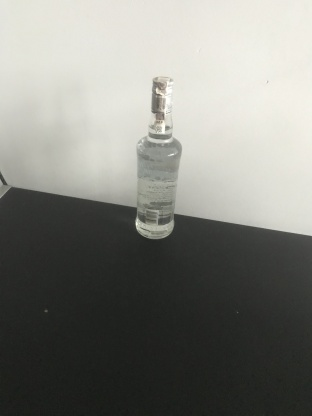nakretka: (150, 74, 174, 115)
